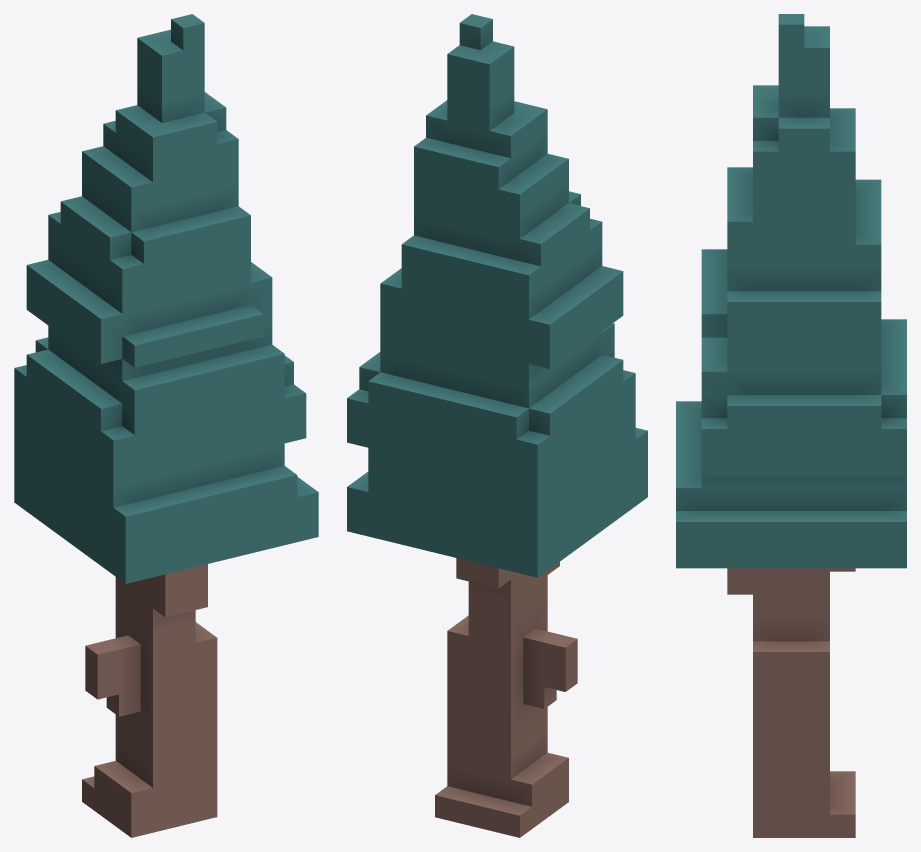
Rendered from tree_pine_tall.glb.
3 renders of one model, left to right at view 1: azimuth 30°, elevation 25°; view 2: azimuth 150°, elevation 25°; view 3: azimuth 270°, elevation 25°, orthographic. The views are drawn at different scales.
Parts seen in each view (by area): view 1: voxels; view 2: voxels; view 3: voxels.
Boxes of the visible parts, box(x1,y1,x2,y2) form: voxels: box(14, 14, 318, 837); voxels: box(347, 14, 647, 837); voxels: box(676, 14, 906, 837).
Size of the model in its own units: 0.4049 by 1.57 by 0.4049.
